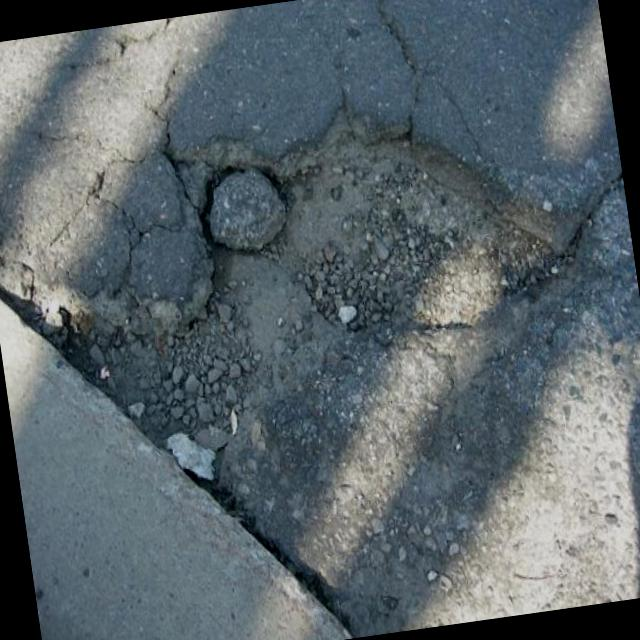pothole: (23, 72, 624, 598)
